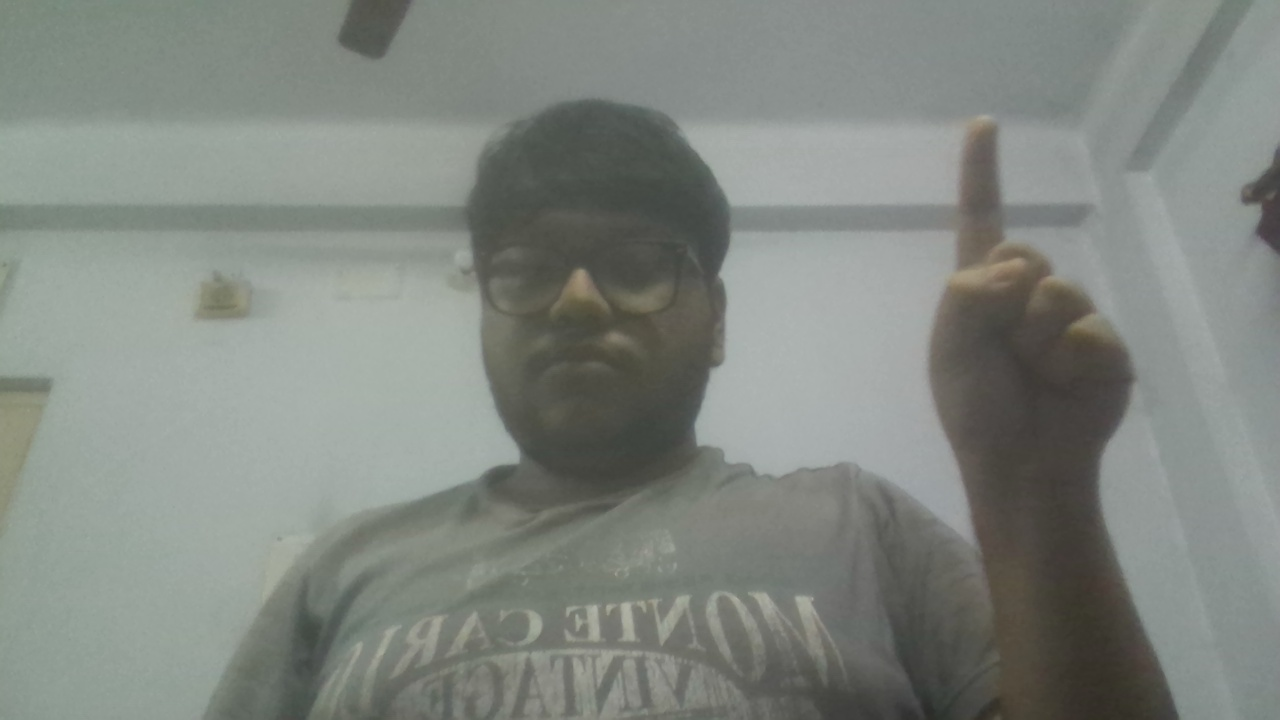Gesture1: (906, 99, 1156, 492)
